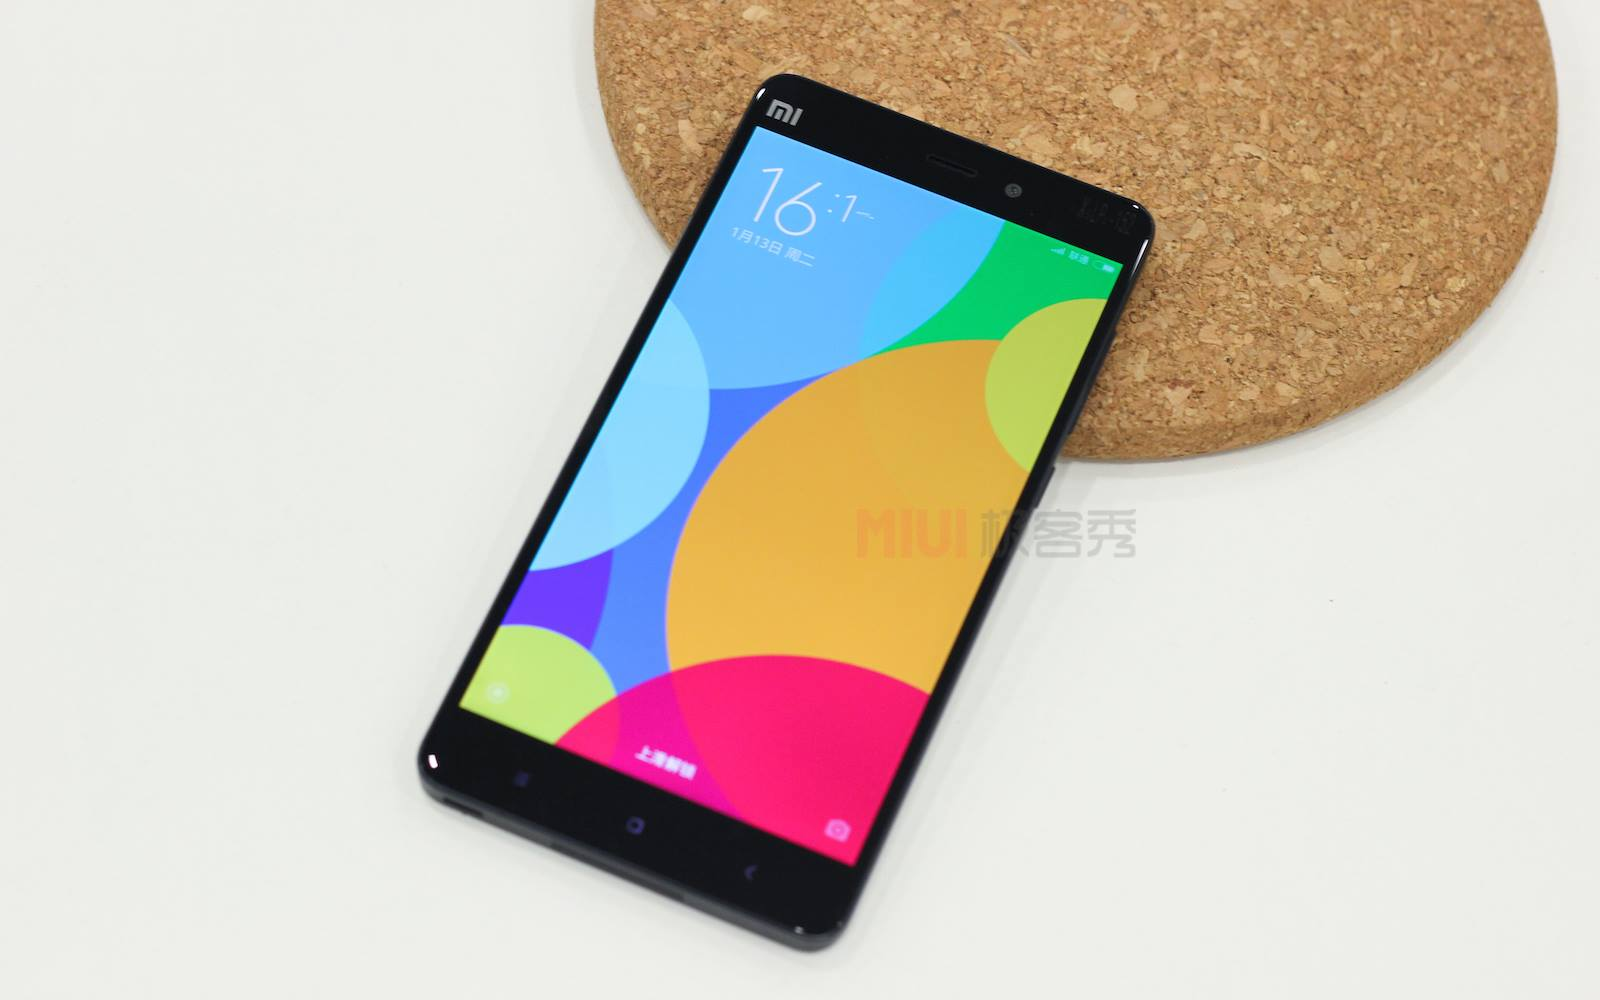smartphone: (416, 74, 1155, 952)
